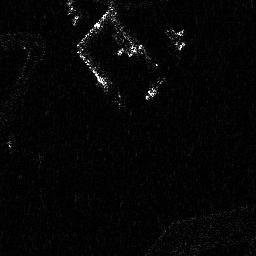ship: (144, 71, 168, 101)
